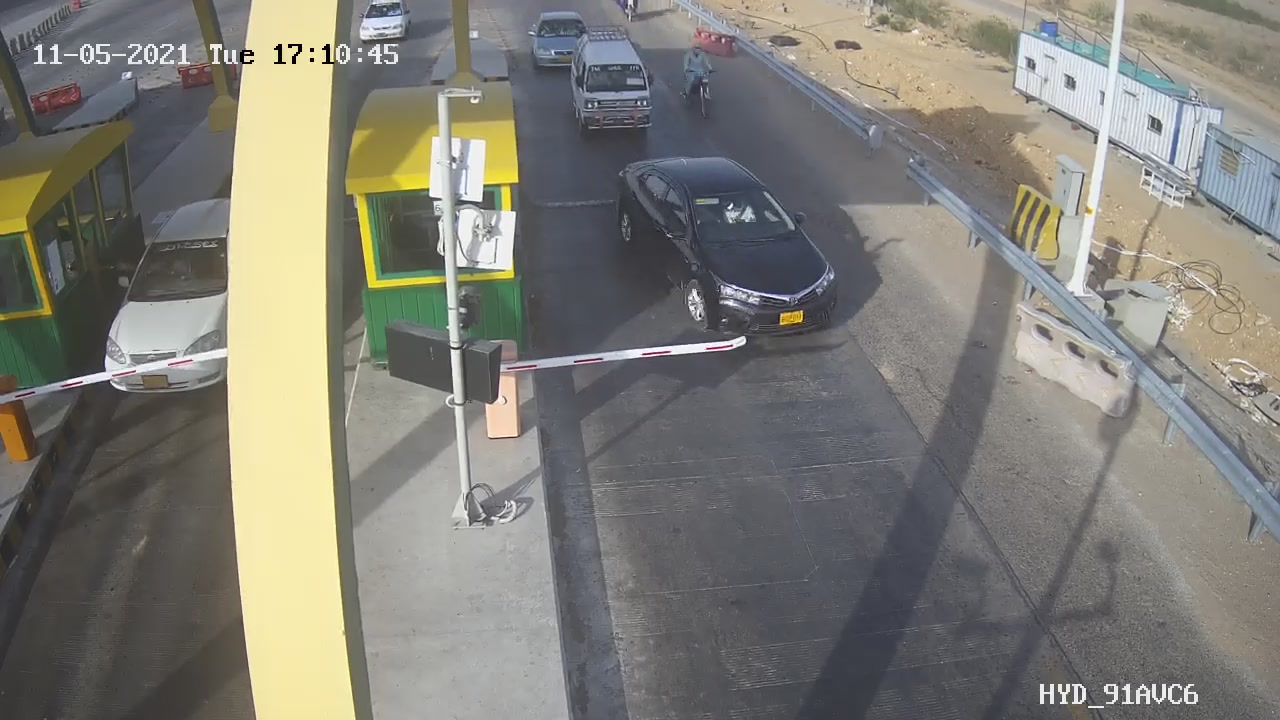F1: (603, 140, 864, 353), (557, 16, 673, 147)
